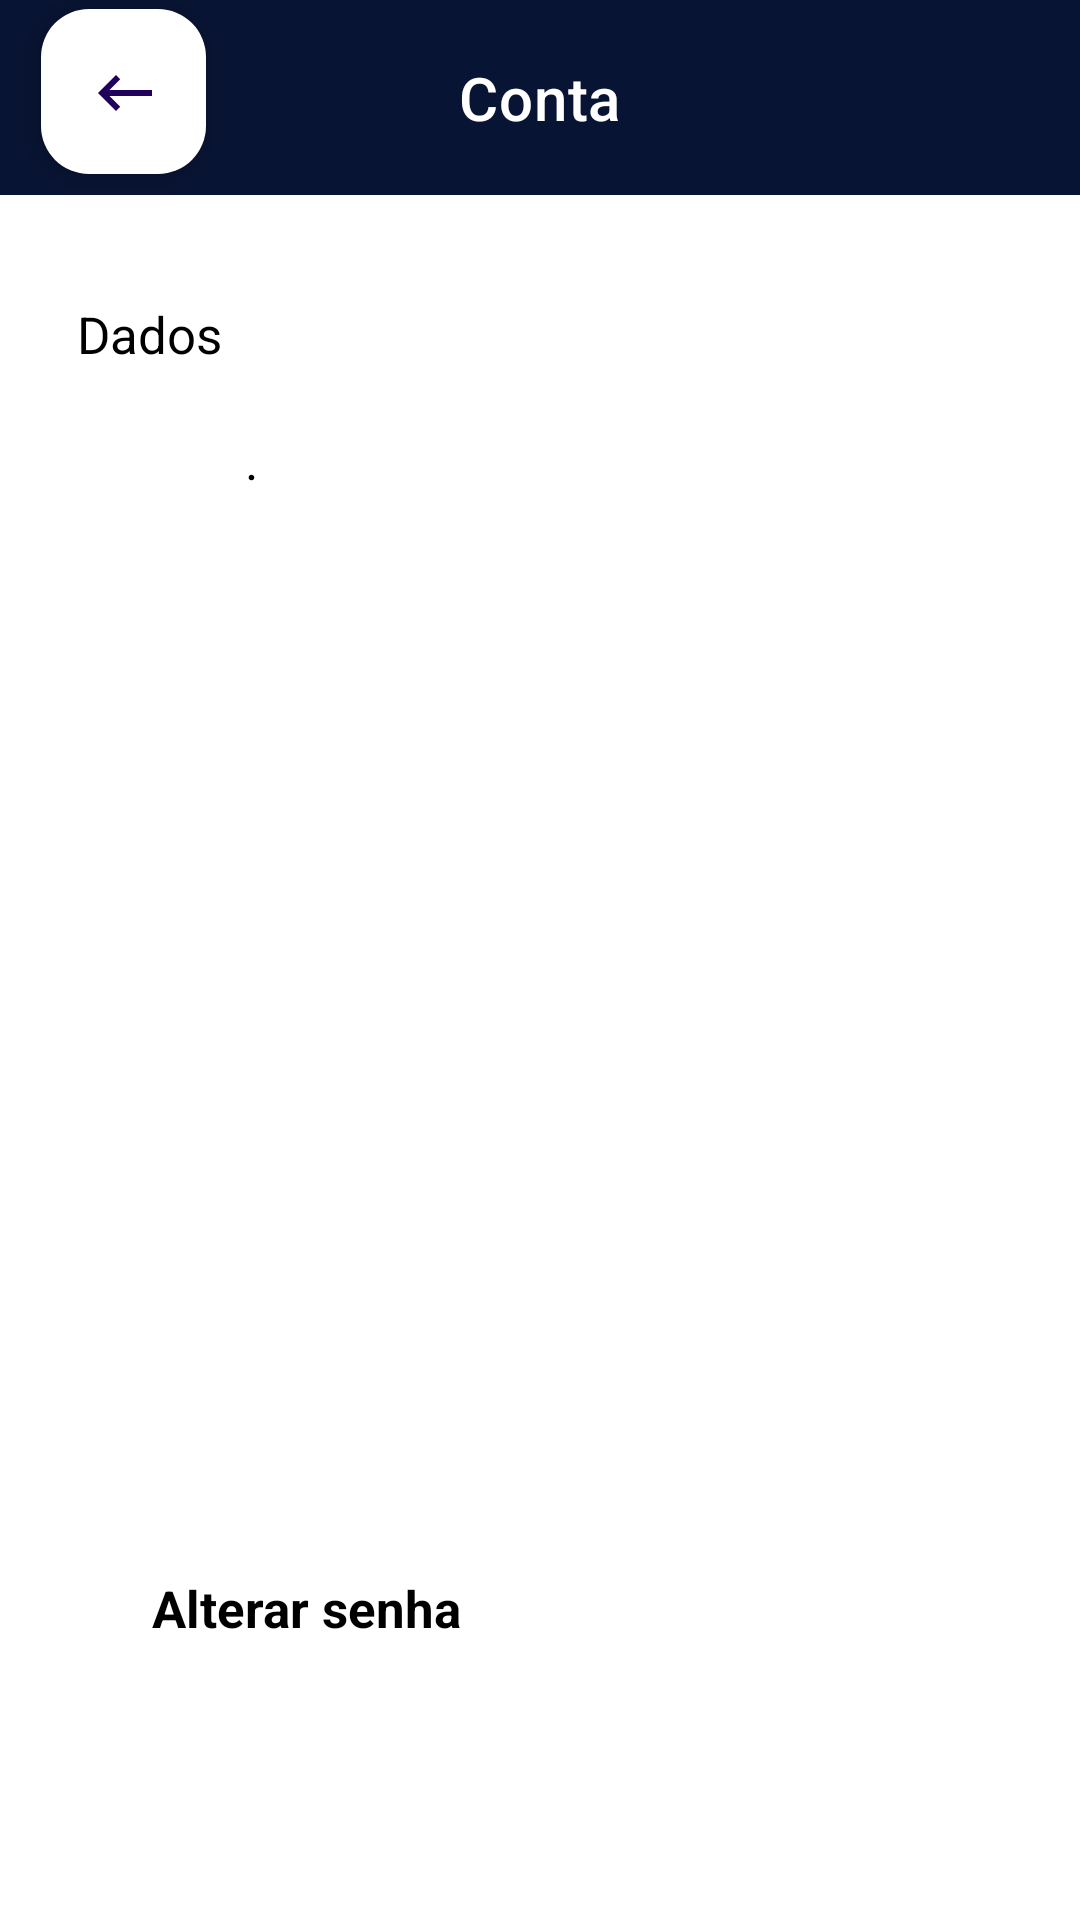

Screen size 1080×1920. Icon name, then its box in pixels as [x1, y1, x2, y2]:
keyboard backspace: [41, 9, 206, 174]
